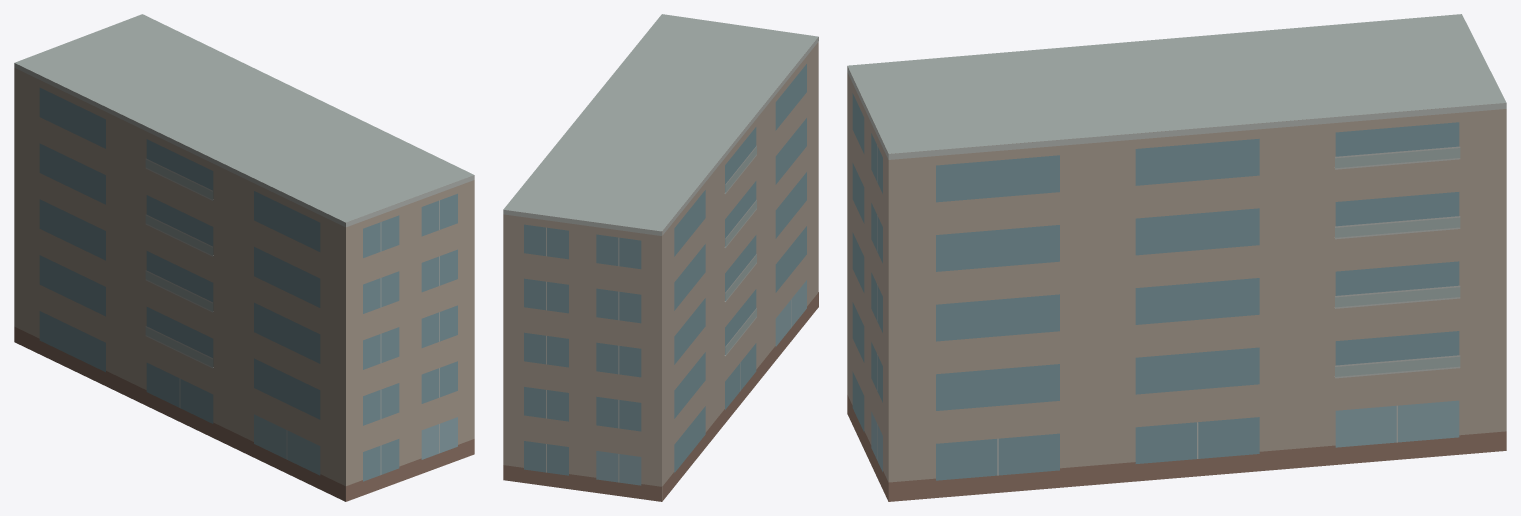
Rendered from survey-upis-32626530.glb.
The picture shows the model from 3 angles, left to right: view 1: azimuth 30°, elevation 25°; view 2: azimuth 150°, elevation 25°; view 3: azimuth 270°, elevation 25°; orthographic projection. The views are drawn at different scales.
Visible parts, largest first — view 1: survey-upis-32626530.tmp; view 2: survey-upis-32626530.tmp; view 3: survey-upis-32626530.tmp.
Part boxes in pixels (x1,y1,x2,y2): survey-upis-32626530.tmp: [14, 14, 474, 501]; survey-upis-32626530.tmp: [503, 14, 818, 501]; survey-upis-32626530.tmp: [847, 14, 1506, 501].
Bounding box in the file's own units: 12.18 × 14.1 × 24.23.
